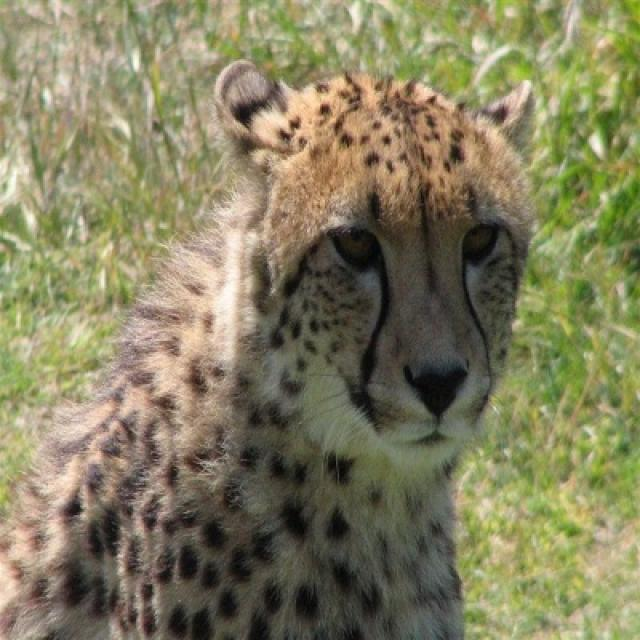Cheetah: (0, 61, 538, 638)
